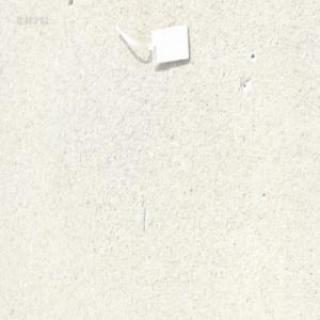LuggageTagtrack_idkeyframe: (111, 20, 189, 70)
